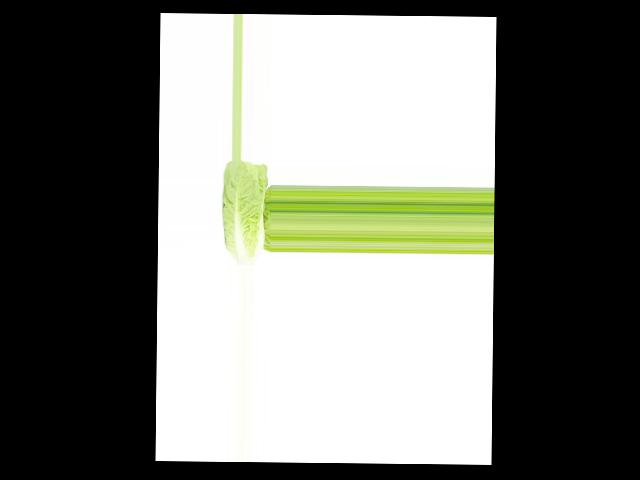lettuce: (214, 159, 266, 265)
